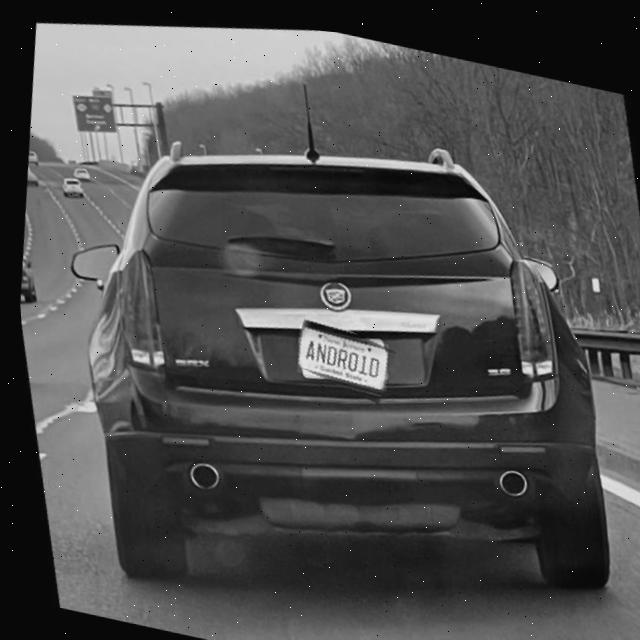LicensePlate: (292, 320, 384, 383)
